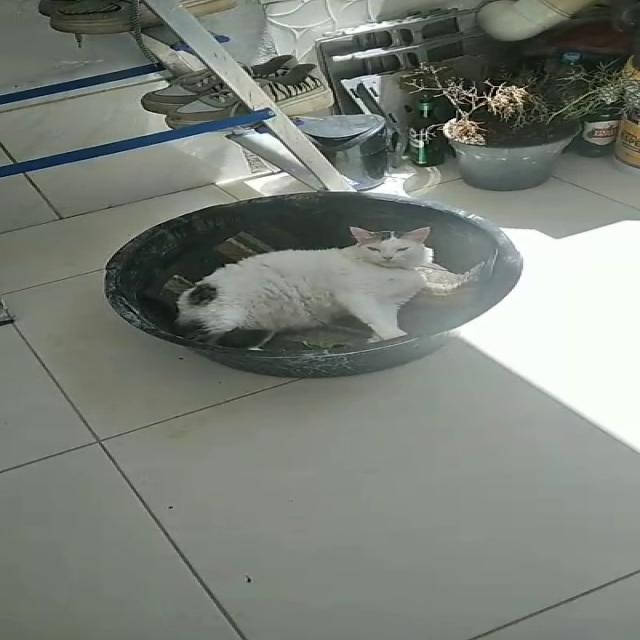Simba: (154, 220, 466, 352)
